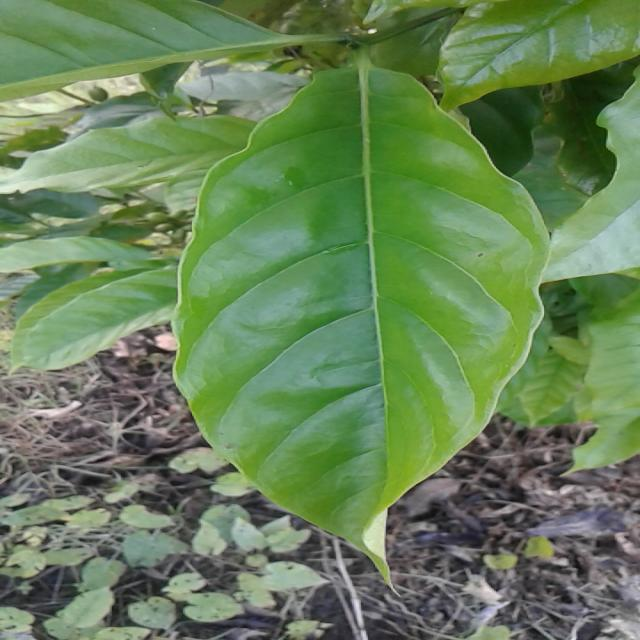Sanas: (172, 63, 551, 582)
